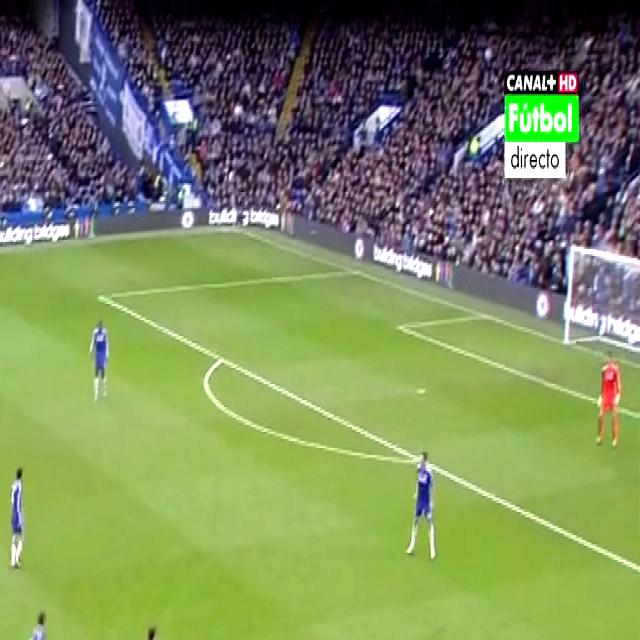goalkeeper: (591, 344, 626, 459)
soccer-player: (398, 434, 438, 567), (4, 460, 33, 578), (86, 307, 112, 405), (17, 602, 65, 640), (131, 615, 165, 640)
